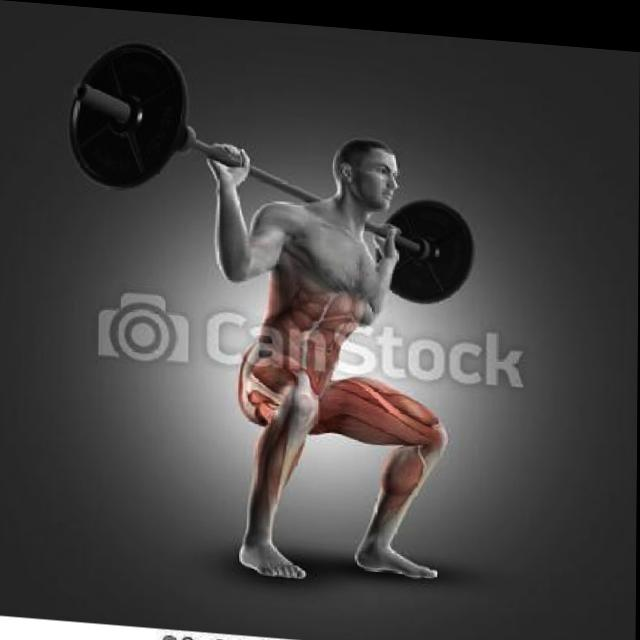barbell: (62, 36, 194, 193)
